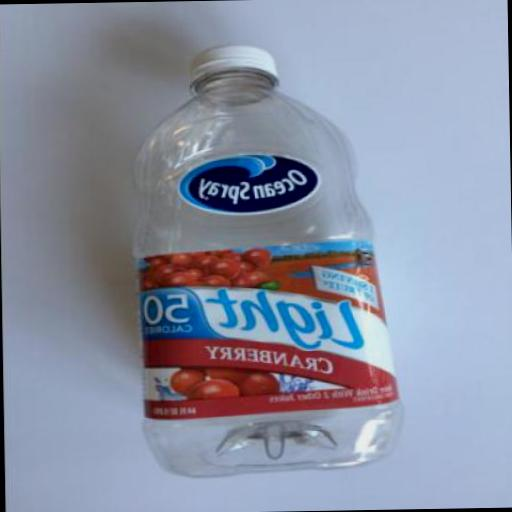plastic: (126, 41, 404, 478), (184, 42, 276, 105)
